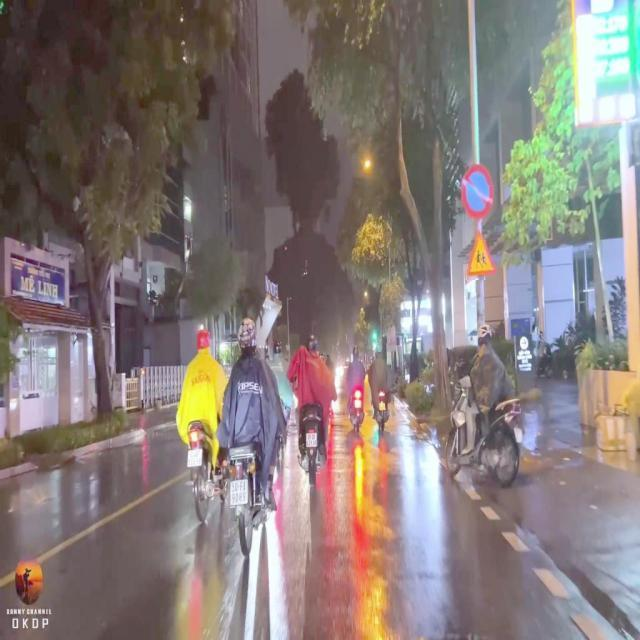131a-cam-do-xe: (462, 165, 494, 217)
225-chu-y-tre-em: (466, 230, 498, 278)
